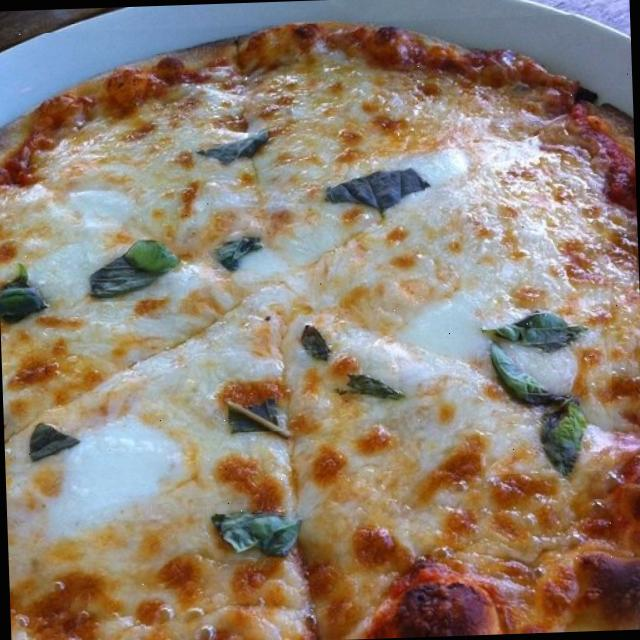basil: (476, 346, 614, 474), (88, 228, 188, 302), (481, 302, 596, 358), (330, 164, 426, 220), (206, 503, 298, 560), (204, 386, 306, 434), (14, 416, 82, 472), (204, 124, 278, 169), (210, 223, 276, 270), (338, 370, 400, 420), (0, 271, 45, 329), (297, 318, 334, 366)
pizza: (0, 23, 640, 640)
